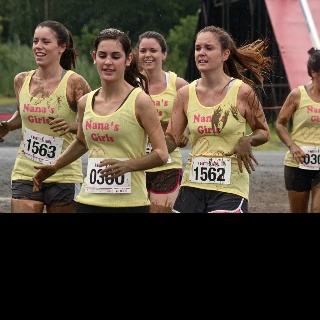without_mask: (94, 40, 126, 83), (193, 30, 223, 72), (32, 25, 60, 67)
